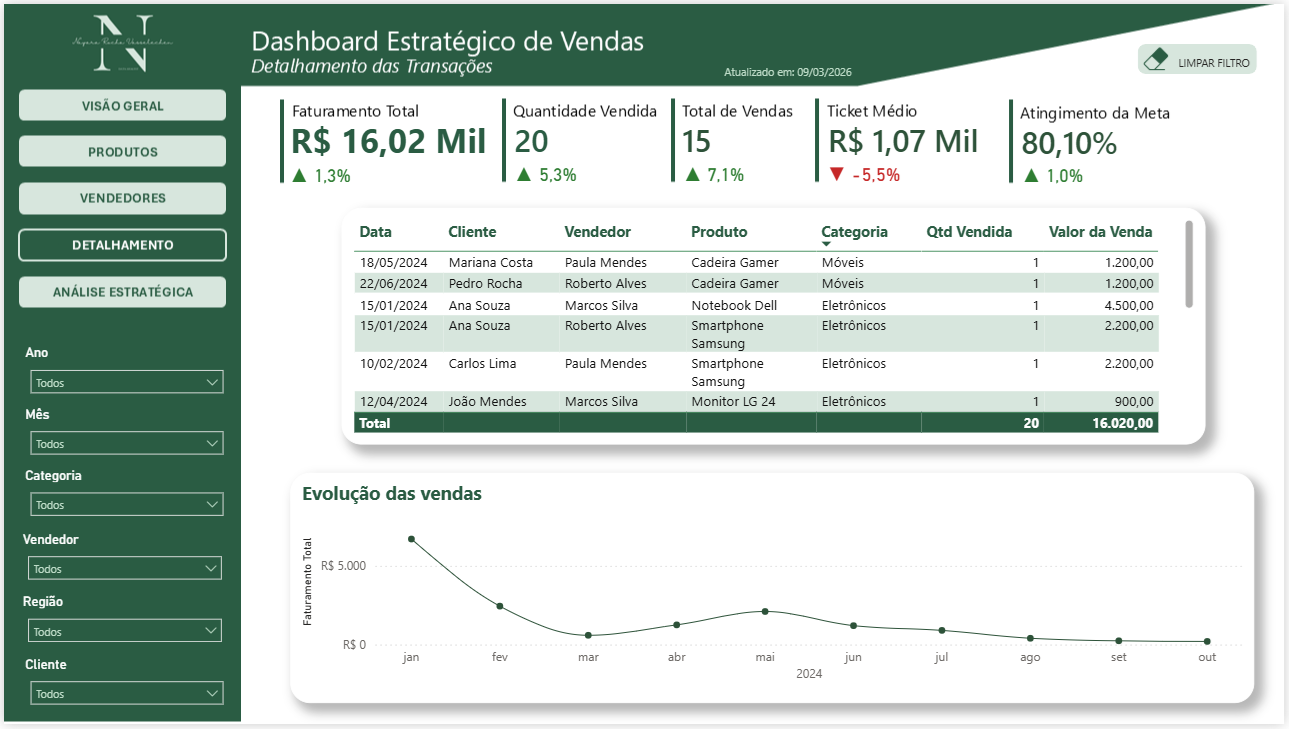

Layout of this report page (visuals, bound fields, positions):
{"tool":"powerbi","page":{"name":"Detalhamento de Vendas","canvas":[1280,720],"ordinal":3},"visuals":[{"type":"tableEx","fields":{"Values":["dim_datas.data_completa","dim_clientes.nome_clientes","dim_vendedores.nome_vendedor","dim_produtos.nome_produto","dim_produtos.categoria","Sum(fat_vendas.quantidade)","Sum(fat_vendas.valor_total)"]},"box":[337.1,204.3,864.3,237.1],"z":0},{"type":"lineChart","title":"Evolução das vendas","fields":{"Category":["dim_datas.ano","dim_datas.mes_abreviado"],"Y":["_medidas.faturamento_total"]},"box":[285.7,468.6,964.3,230],"z":1000},{"type":"actionButton","box":[15.7,87.1,205.7,28.6],"z":2000},{"type":"actionButton","box":[15.7,132.9,205.7,28.6],"z":3000},{"type":"actionButton","box":[15.7,180,205.7,28.6],"z":4000},{"type":"textbox","box":[692.9,52.9,182.9,38.6],"z":5000},{"type":"slicer","title":"Ano","fields":{"Values":["dim_datas.ano"]},"box":[15.7,341.4,212.9,54.3],"z":6000},{"type":"slicer","title":"Mês","fields":{"Values":["dim_datas.mes_abreviado"]},"box":[15.7,402.9,212.9,52.9],"z":7000},{"type":"slicer","title":"Categoria","fields":{"Values":["dim_produtos.categoria"]},"box":[15.7,464.3,212.9,54.3],"z":8000},{"type":"slicer","title":"Vendedor","fields":{"Values":["dim_vendedores.nome_vendedor"]},"box":[14.3,527.1,214.3,54.3],"z":9000},{"type":"slicer","title":"Região","fields":{"Values":["dim_vendedores.regiao"]},"box":[14.3,590,214.3,54.3],"z":10000},{"type":"slicer","title":"Cliente","fields":{"Values":["dim_clientes.nome_clientes"]},"box":[15.7,652.9,212.9,54.3],"z":11000},{"type":"actionButton","box":[15.7,272.9,205.7,28.6],"z":12000},{"type":"card","title":"Faturamento Total","fields":{"Values":["_medidas.faturamento_total"]},"box":[257.1,104.3,254.3,65.7],"z":13000},{"type":"card","title":"Qtd Vendida","fields":{"Values":["_medidas.quantidade_vendida"]},"box":[475.6,103.7,105,66.1],"z":14000},{"type":"card","title":"Total de Vendas","fields":{"Values":["_medidas.total_vendas"]},"box":[641.4,103.7,103.7,66.1],"z":15000},{"type":"card","title":"Ticket Médio","fields":{"Values":["_medidas.ticket_medio"]},"box":[776.2,103.7,246.2,66.1],"z":16000},{"type":"card","title":"Faturamento Total","fields":{"Values":["_medidas.tendência_faturamento"]},"box":[271.4,151.4,90,41.4],"z":17000},{"type":"card","title":"Faturamento Total","fields":{"Values":["_medidas.7_tendência_qtd_vendida"]},"box":[496.3,150.3,90.7,41.5],"z":18000},{"type":"card","title":"Faturamento Total","fields":{"Values":["_medidas.7_tendência_total_vendas"]},"box":[664.8,150.3,89.4,41.5],"z":19000},{"type":"card","title":"Faturamento Total","fields":{"Values":["_medidas.7_tendência_ticket_medio"]},"box":[815.1,150.3,89.4,41.5],"z":20000},{"type":"card","title":"Ticket Médio","fields":{"Values":["_medidas.1_atingimento_meta"]},"box":[990,106.3,151.6,64.8],"z":21000},{"type":"card","title":"Faturamento Total","fields":{"Values":["_medidas.3_2_tendencia_atingimento_meta"]},"box":[1004.3,151.6,89.4,41.5],"z":22000},{"type":"shape","box":[1133.6,40,119.1,30],"z":23000},{"type":"textbox","box":[1165.5,43.6,90,28.2],"z":24000},{"type":"image","box":[1130,40.9,42.7,27.3],"z":25000},{"type":"actionButton","box":[1134,40,119,30],"z":26000}]}

Visuals, with their boxes in screenshot pixels (x1, y1, x2, y2), scaled from the page's 1280x720 canvas onto the 1289x729 screenshot:
tableEx - dim_datas.data_completa x dim_clientes.nome_clientes: locate(339, 207, 1210, 447)
"Evolução das vendas" lineChart: locate(288, 474, 1259, 707)
actionButton: locate(16, 88, 223, 117)
actionButton: locate(16, 135, 223, 164)
actionButton: locate(16, 182, 223, 211)
textbox: locate(698, 54, 882, 93)
"Ano" slicer: locate(16, 346, 230, 401)
"Mês" slicer: locate(16, 408, 230, 461)
"Categoria" slicer: locate(16, 470, 230, 525)
"Vendedor" slicer: locate(14, 534, 230, 589)
"Região" slicer: locate(14, 597, 230, 652)
"Cliente" slicer: locate(16, 661, 230, 716)
actionButton: locate(16, 276, 223, 305)
"Faturamento Total" card: locate(259, 106, 515, 172)
"Qtd Vendida" card: locate(479, 105, 585, 172)
"Total de Vendas" card: locate(646, 105, 750, 172)
"Ticket Médio" card: locate(782, 105, 1030, 172)
"Faturamento Total" card: locate(273, 153, 364, 195)
"Faturamento Total" card: locate(500, 152, 591, 194)
"Faturamento Total" card: locate(669, 152, 760, 194)
"Faturamento Total" card: locate(821, 152, 911, 194)
"Ticket Médio" card: locate(997, 108, 1150, 173)
"Faturamento Total" card: locate(1011, 153, 1101, 196)
shape: locate(1142, 40, 1262, 71)
textbox: locate(1174, 44, 1264, 73)
image: locate(1138, 41, 1181, 69)
actionButton: locate(1142, 40, 1262, 71)
